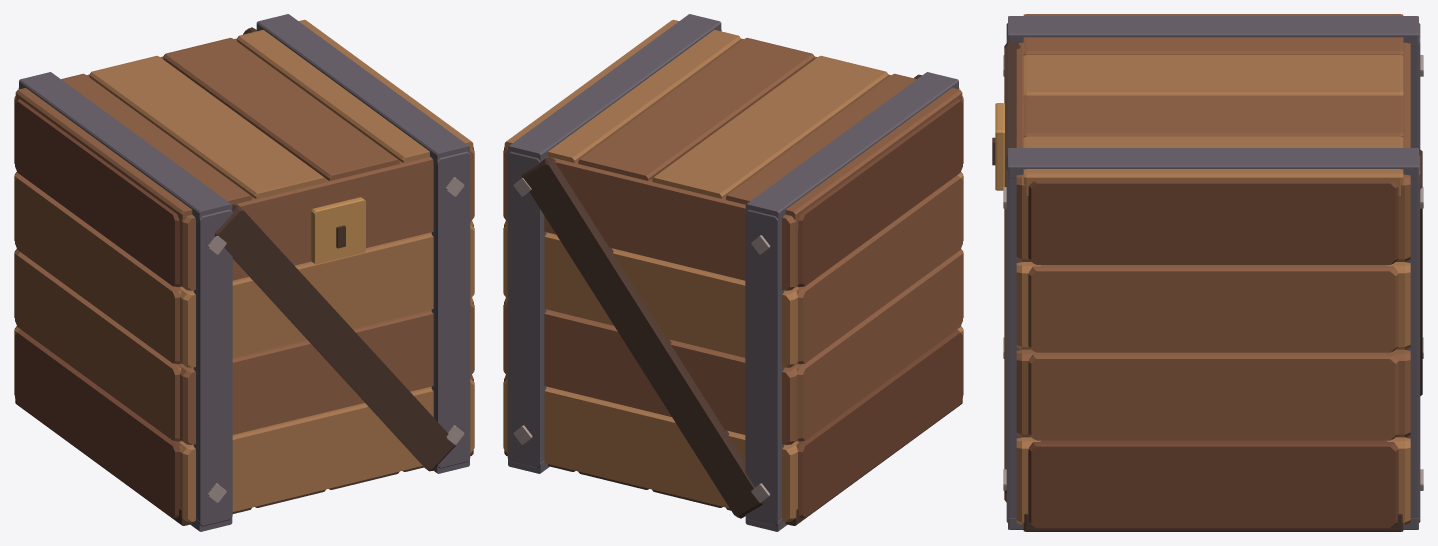
Rendered from CargoBox.obj.
3 views of the same model, side by side, from view 1: azimuth 30°, elevation 25°; view 2: azimuth 150°, elevation 25°; view 3: azimuth 270°, elevation 25° (orthographic). The views are drawn at different scales.
Visible parts, largest first — view 1: Body; view 2: Body; view 3: Body.
Boxes of the visible parts, bbox=[...] form: Body: bbox=[14, 14, 474, 531]; Body: bbox=[503, 14, 963, 531]; Body: bbox=[992, 14, 1423, 531].
Bounding box in the file's own units: 0.993 × 1.02 × 1.09.
Materials: 1 (1 with a texture image).
